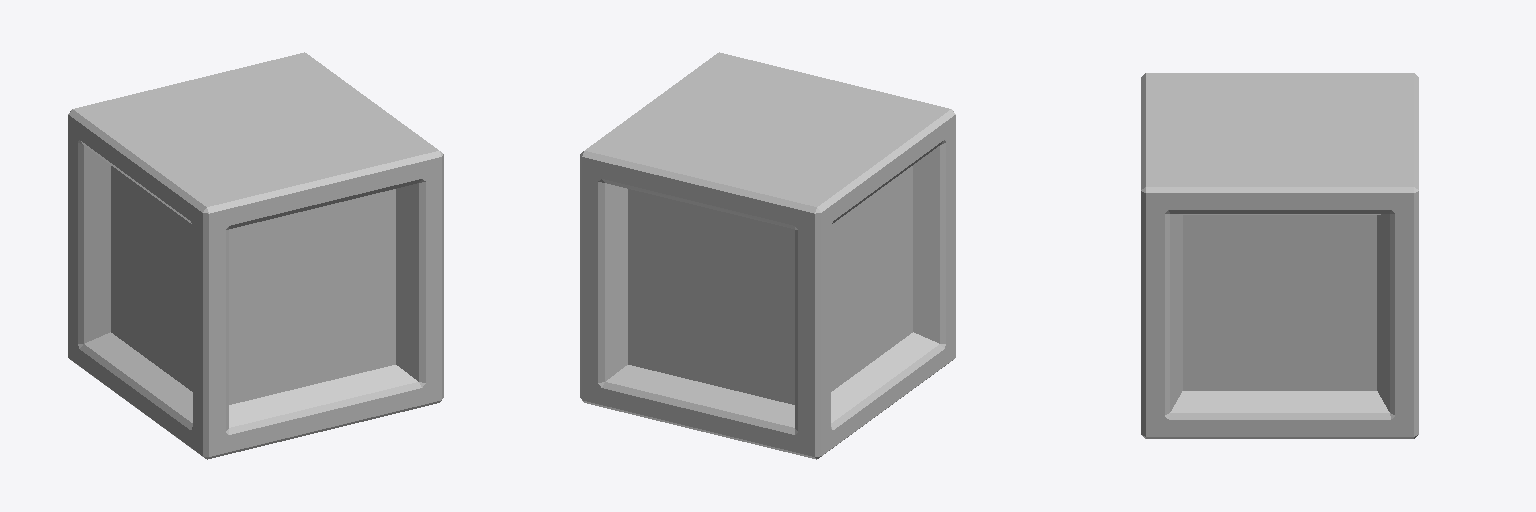
File: insetcube.obj
3 renders of one model, left to right at view 1: azimuth 30°, elevation 25°; view 2: azimuth 150°, elevation 25°; view 3: azimuth 270°, elevation 25°, orthographic.
Visible parts, largest first — view 1: Cube; view 2: Cube; view 3: Cube.
Boxes of the visible parts, box(x1,y1,x2,y2) form: Cube: box(68, 52, 443, 459); Cube: box(580, 52, 955, 459); Cube: box(1141, 73, 1418, 438).
Size of the model in its own units: 2 by 2 by 2.